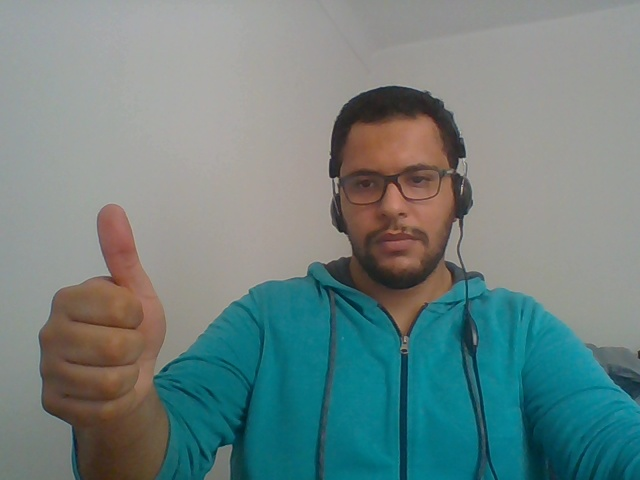ok: (31, 184, 186, 450)
